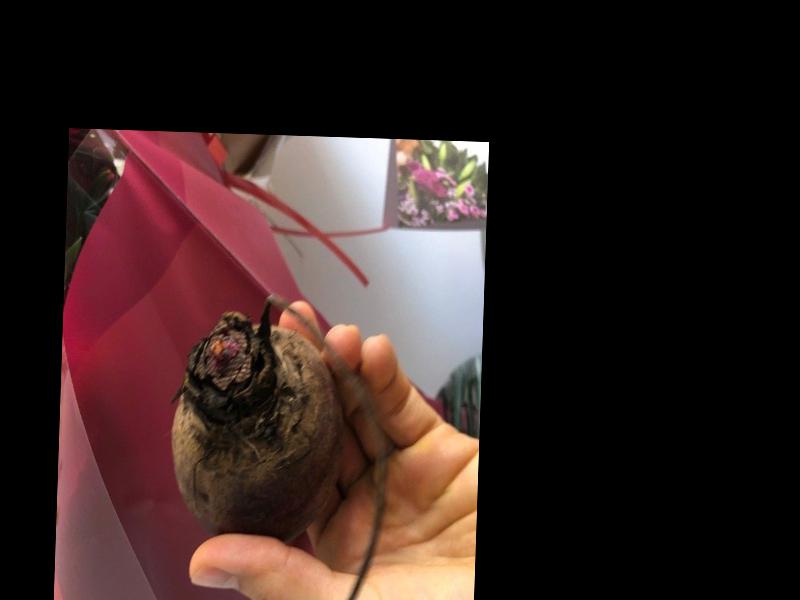Beet: (166, 288, 391, 600)
